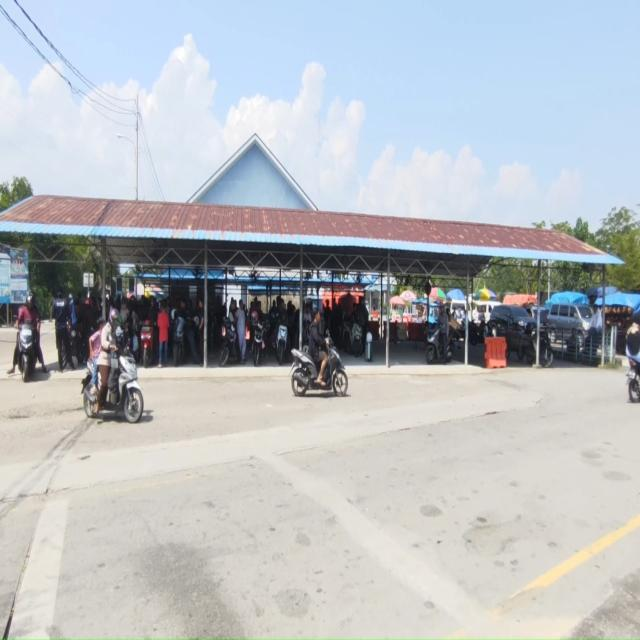Golongan II: (81, 328, 144, 423), (290, 340, 348, 397), (526, 328, 554, 368), (18, 322, 36, 382), (219, 318, 240, 367), (426, 325, 452, 364), (68, 322, 87, 366), (626, 351, 640, 403), (251, 320, 266, 366), (140, 319, 154, 368), (173, 316, 186, 367), (349, 322, 364, 357), (276, 324, 288, 365), (468, 321, 486, 346), (339, 317, 352, 351)
